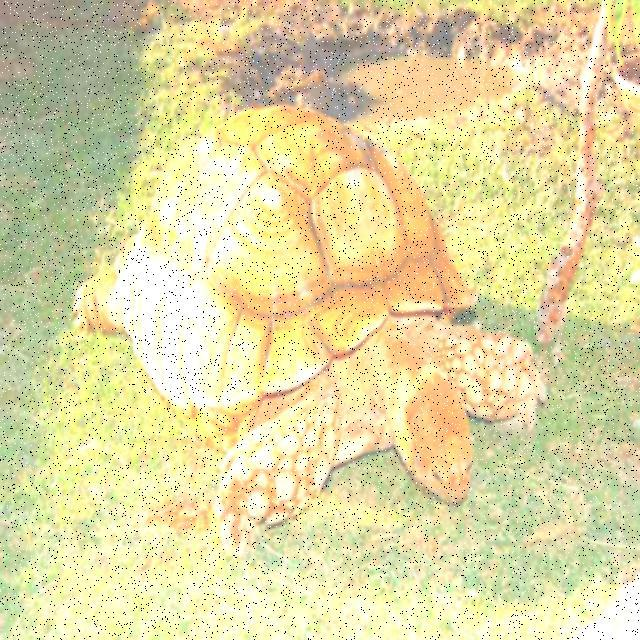tortoise: (77, 100, 560, 558)
